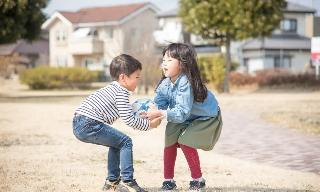person - v3 P: (150, 39, 228, 192), (68, 43, 148, 192)
